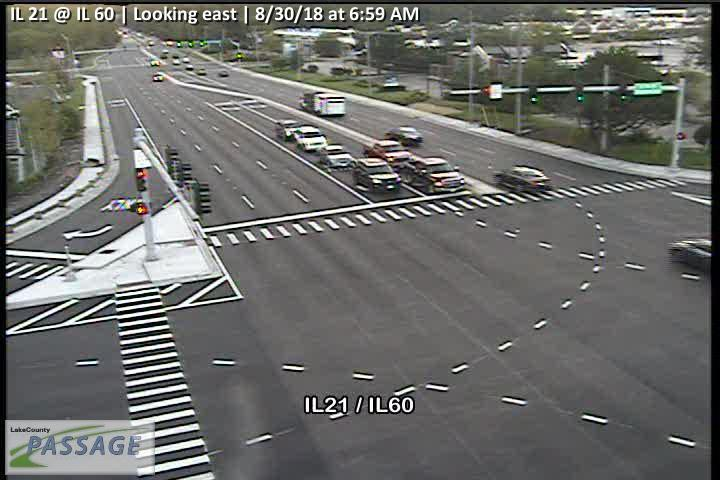SUV: (400, 156, 466, 194), (353, 157, 402, 193), (367, 139, 412, 170), (294, 125, 327, 151), (275, 119, 300, 140)
Sedan: (493, 165, 553, 194), (667, 238, 712, 269), (319, 144, 352, 169), (388, 125, 424, 146)
Truck: (298, 89, 346, 115)
